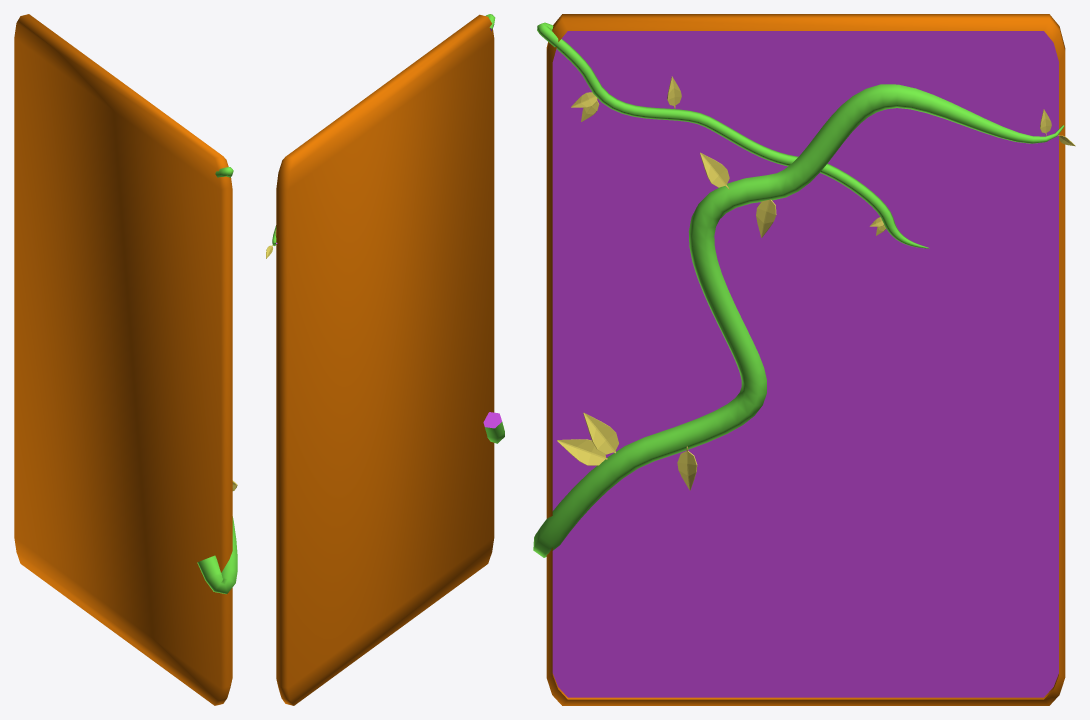
The model's file is cuadro2_presente.fbx.
3 renders of one model, left to right at view 1: azimuth 30°, elevation 25°; view 2: azimuth 150°, elevation 25°; view 3: azimuth 270°, elevation 25°, orthographic. The views are drawn at different scales.
Parts seen in each view (by area): view 1: Cuadro 3.001, Cuadro 3.004; view 2: Cuadro 3.001; view 3: Cuadro 3.002, Cuadro 3.001, Cuadro 3.004, Cuadro 3.005, Cuadro 3.003, Cuadro 3.
Part boxes in pixels (box(x1,y1,x2,y2)): Cuadro 3.001: box(14, 14, 232, 705); Cuadro 3.004: box(197, 516, 237, 594); Cuadro 3.001: box(276, 14, 494, 705); Cuadro 3.002: box(552, 31, 1058, 697); Cuadro 3.001: box(546, 14, 1065, 705); Cuadro 3.004: box(533, 84, 1064, 557); Cuadro 3.005: box(537, 22, 929, 248); Cuadro 3.003: box(557, 109, 1075, 490); Cuadro 3: box(571, 76, 886, 235).
Size of the model in its own units: 2.14 by 21.03 by 15.06.
